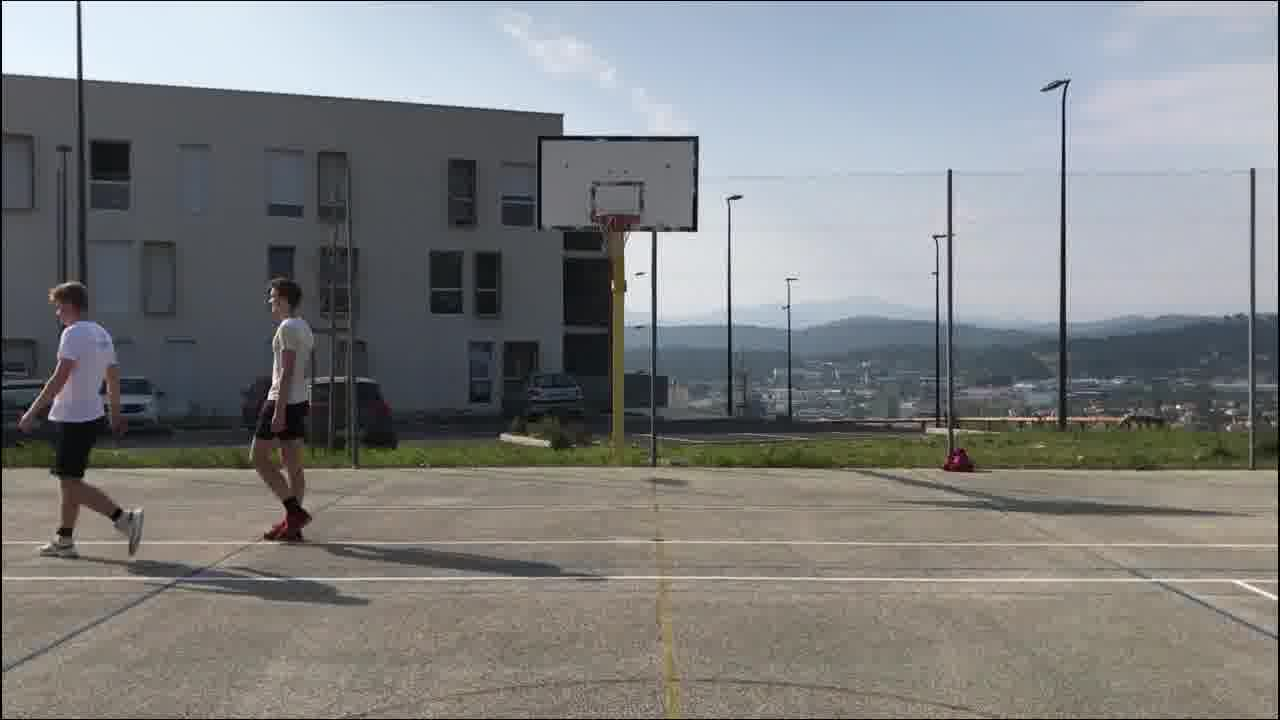jugador: (235, 269, 325, 554)
